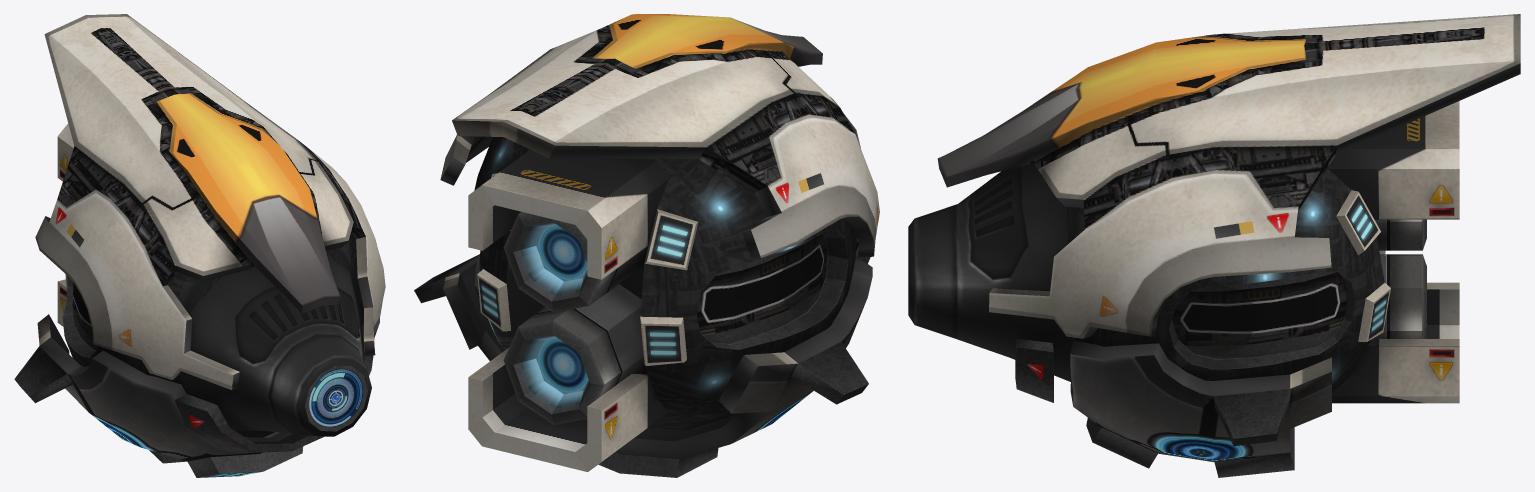
The model's file is drone04_body.FBX.
3 views of the same model, side by side, from view 1: azimuth 30°, elevation 25°; view 2: azimuth 150°, elevation 25°; view 3: azimuth 270°, elevation 25° (orthographic). The views are drawn at different scales.
Visible parts, largest first — view 1: drone04_body; view 2: drone04_body; view 3: drone04_body.
Boxes of the visible parts, x1,y1,x2,y2 form: drone04_body: (14,14,385,477); drone04_body: (414,14,879,477); drone04_body: (908,14,1520,477).
Bounding box in the file's own units: 1.15 × 1.12 × 1.44.
